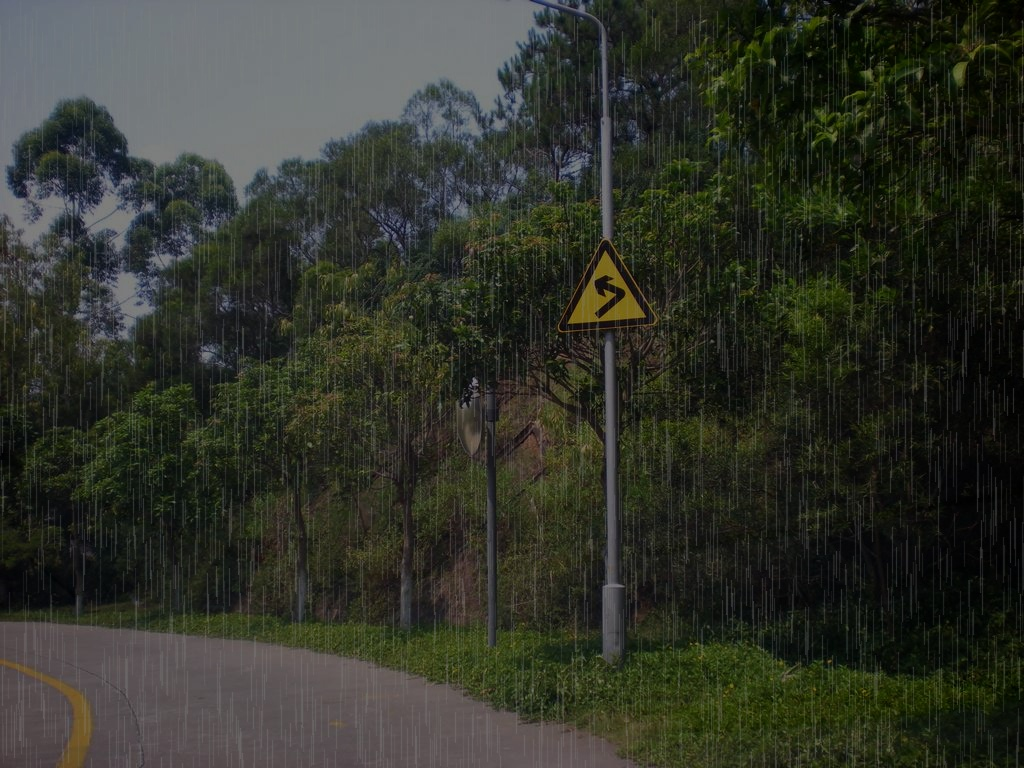Warning Signs: (554, 236, 661, 334)
